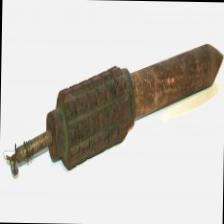POMZ2: (3, 35, 224, 185)
